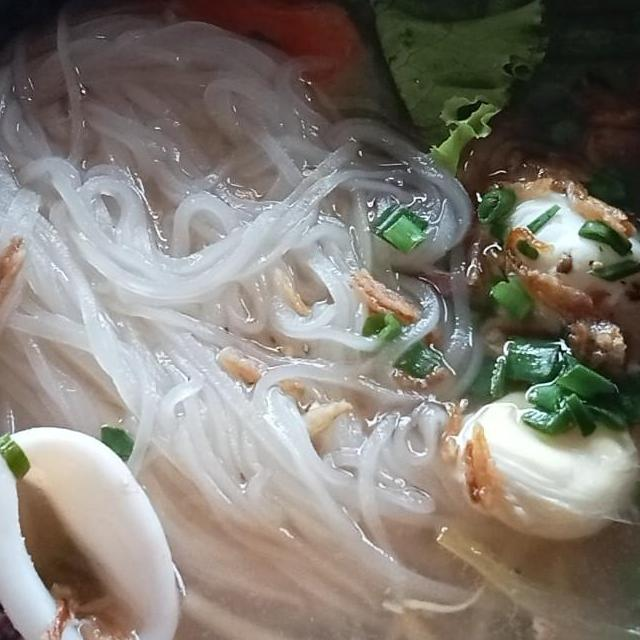banh hu tieu: (0, 5, 525, 640)
muc: (0, 423, 185, 640)
trung: (432, 362, 640, 560), (496, 179, 640, 351)
